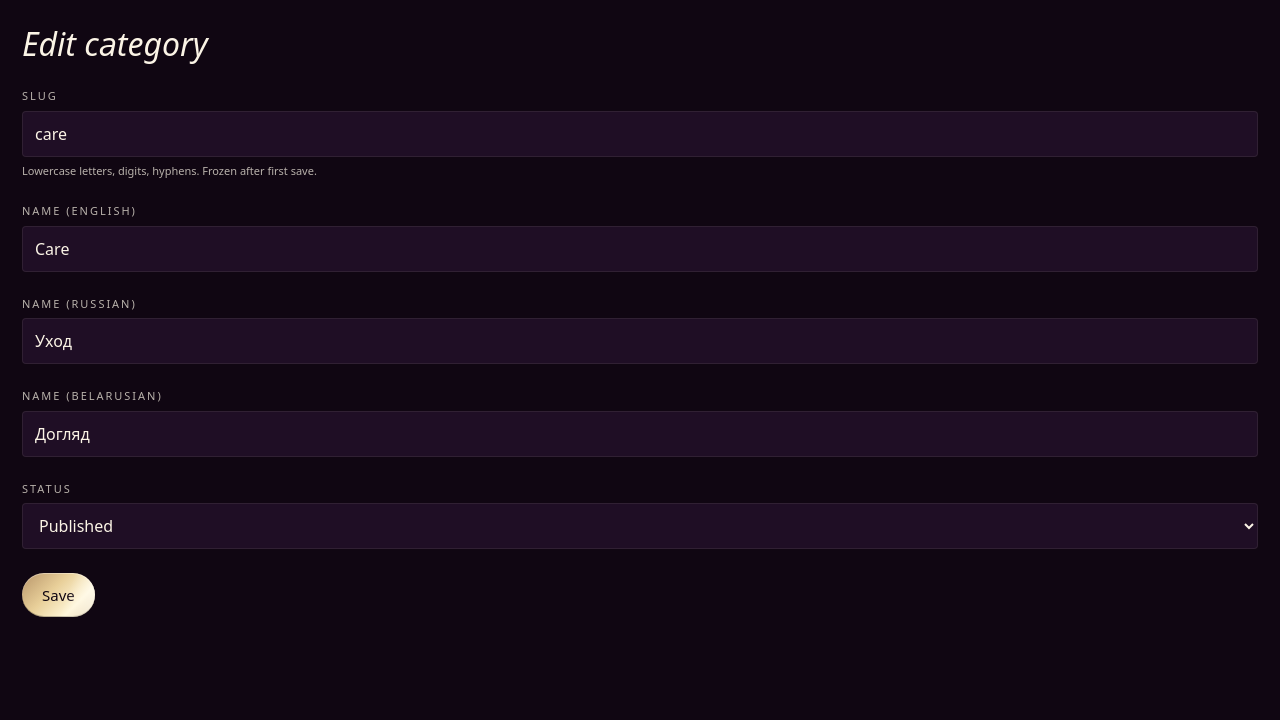
CategoryEditor › rejects submission when a locale name is empty
The width and height of the screenshot is (1280, 720).
Clear the field labelled "Name (Belarusian)" at x=640, y=434, box [22,410,1258,456]
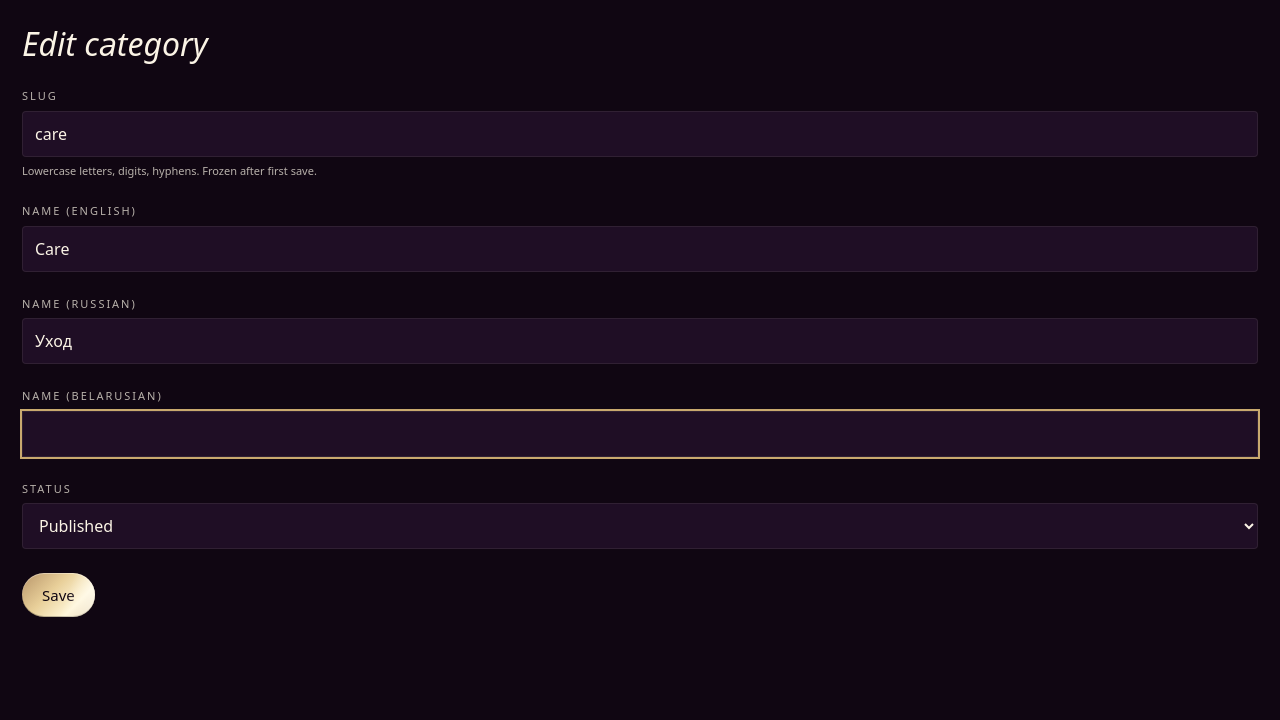
Click the button "Save" at x=58, y=595, box [22,573,95,617]
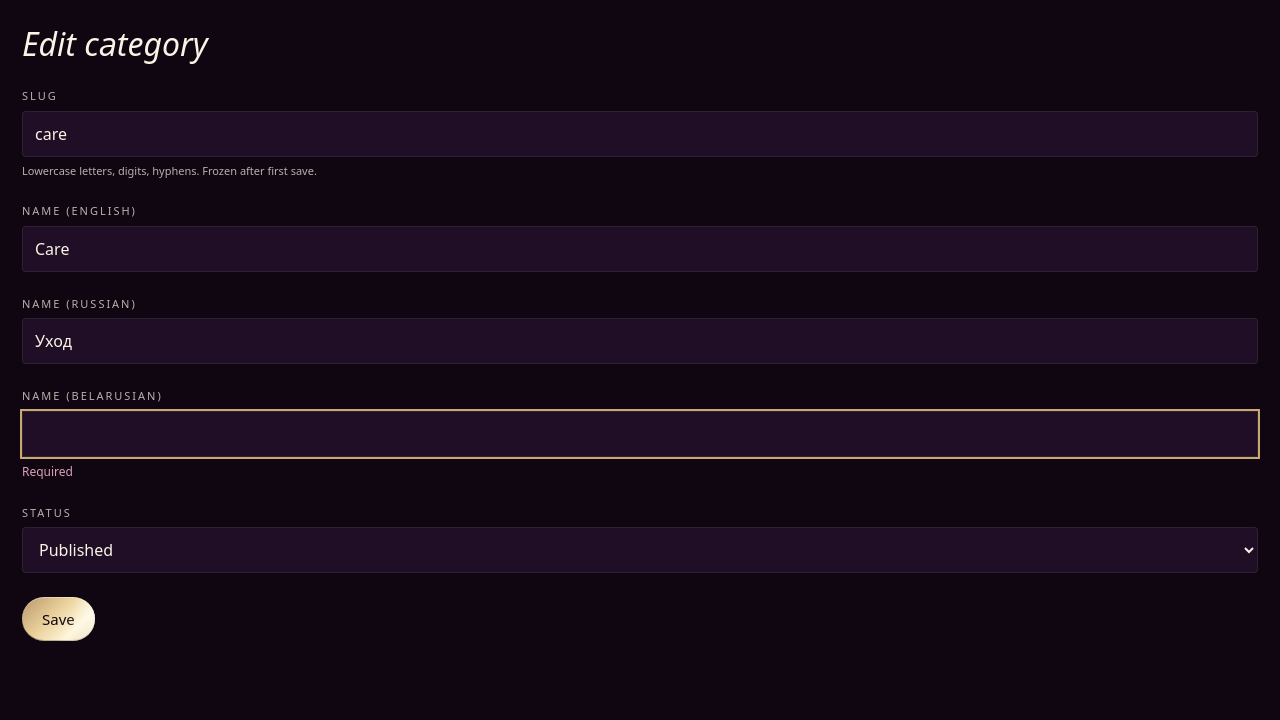
Expected: the text "Required" is shown, [22,462,73,480]
